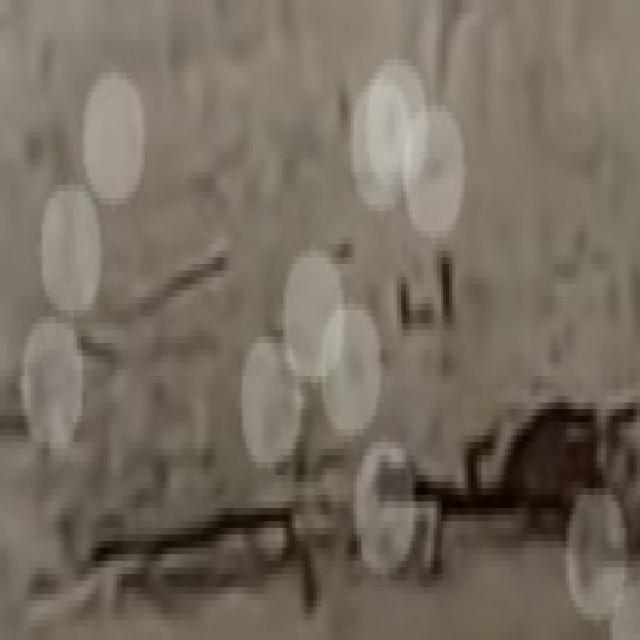crack: (111, 455, 299, 561)
